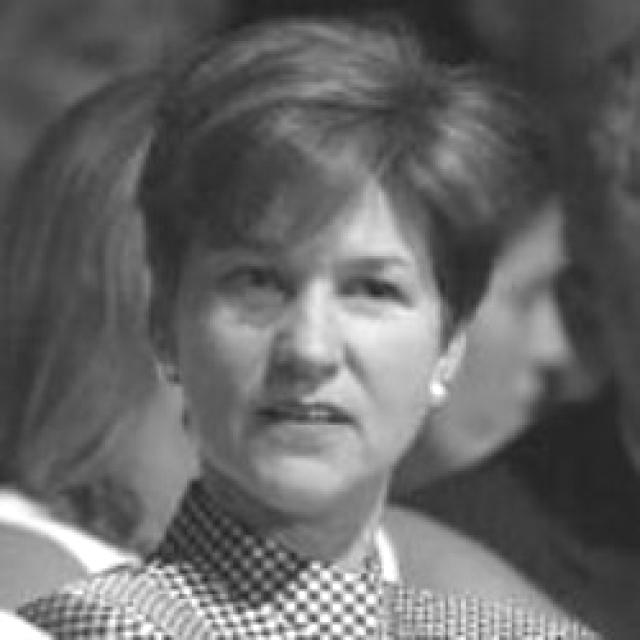real: (177, 184, 440, 510), (220, 247, 412, 325)
